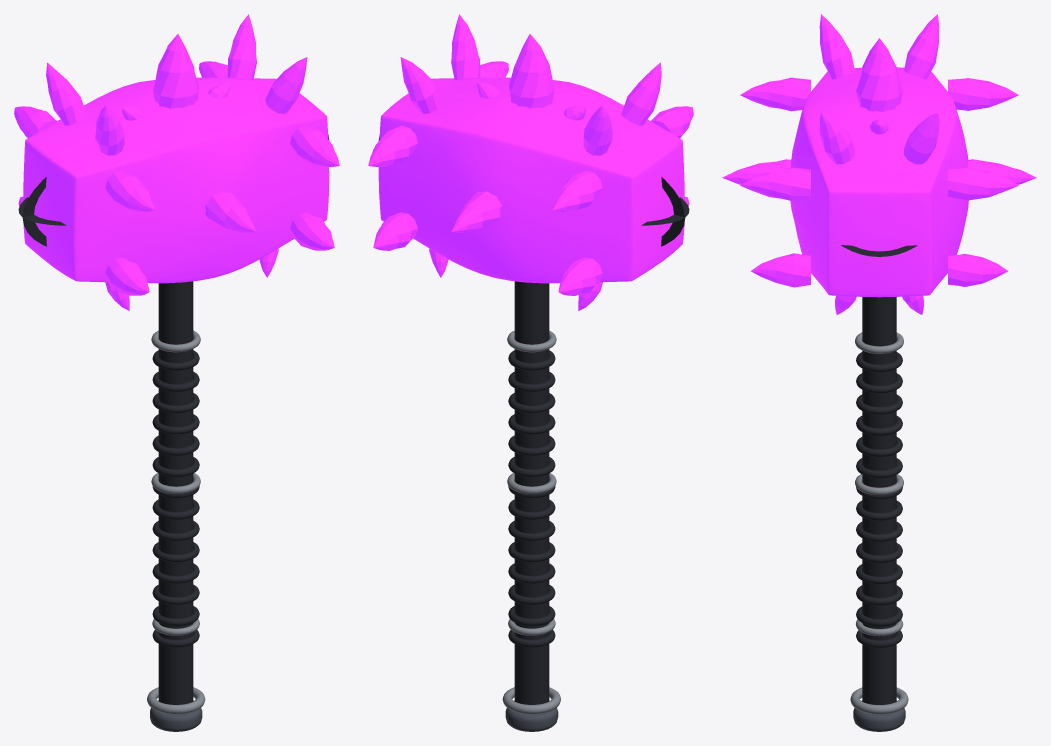
Rendered from vanguard_hammer_weapon.glb.
The picture shows the model from 3 angles, left to right: view 1: azimuth 30°, elevation 25°; view 2: azimuth 150°, elevation 25°; view 3: azimuth 270°, elevation 25°; orthographic projection.
Visible parts, largest first — view 1: Vanguard_VioletCrystal, Vanguard_JointLeather, Vanguard_WornEdges, Vanguard_DarkForgedSteel; view 2: Vanguard_VioletCrystal, Vanguard_JointLeather, Vanguard_WornEdges, Vanguard_DarkForgedSteel; view 3: Vanguard_VioletCrystal, Vanguard_JointLeather, Vanguard_WornEdges, Vanguard_DarkForgedSteel.
Boxes of the visible parts, <box> form: Vanguard_VioletCrystal: <box>14,14,339,310</box>; Vanguard_JointLeather: <box>18,134,329,704</box>; Vanguard_WornEdges: <box>147,330,205,714</box>; Vanguard_DarkForgedSteel: <box>150,700,202,731</box>; Vanguard_VioletCrystal: <box>368,14,693,310</box>; Vanguard_JointLeather: <box>378,135,689,704</box>; Vanguard_WornEdges: <box>502,330,560,714</box>; Vanguard_DarkForgedSteel: <box>505,700,558,731</box>; Vanguard_VioletCrystal: <box>722,14,1036,314</box>; Vanguard_JointLeather: <box>841,245,917,704</box>; Vanguard_WornEdges: <box>850,332,908,714</box>; Vanguard_DarkForgedSteel: <box>853,701,905,731</box>.
Size of the model in its own units: 1.19 by 2.56 by 1.06.
